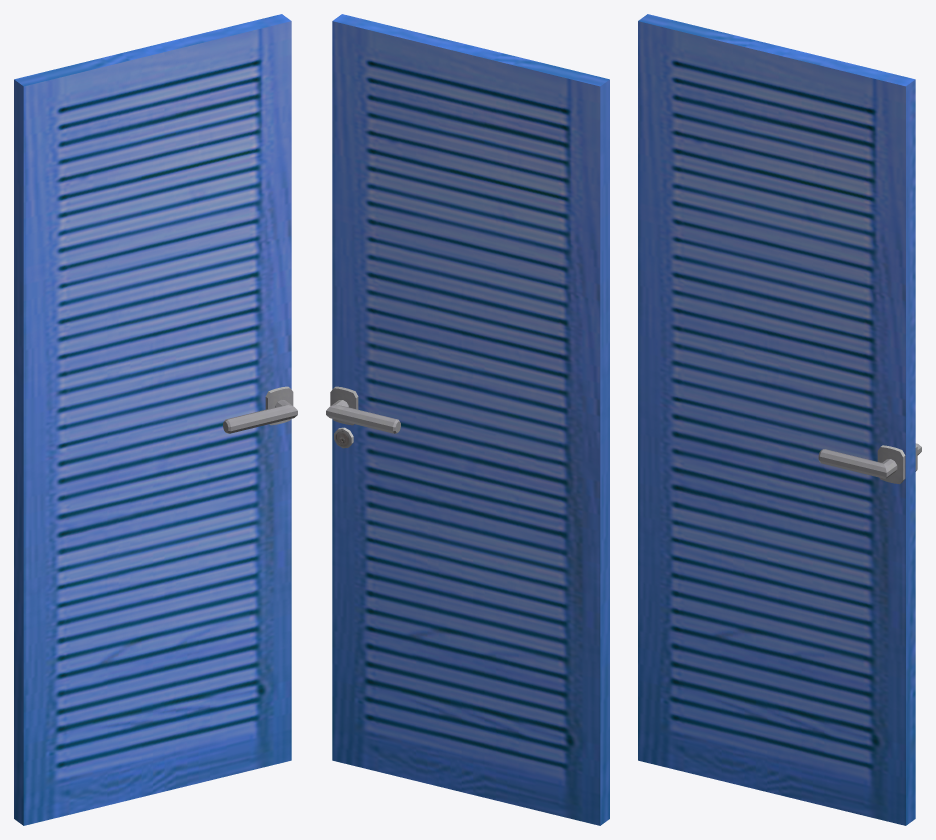
Rendered from Door_wc.fbx.
3 renders of one model, left to right at view 1: azimuth 30°, elevation 25°; view 2: azimuth 150°, elevation 25°; view 3: azimuth 330°, elevation 25°, orthographic.
Parts seen in each view (by area): view 1: porte_basique, Cylinder; view 2: porte_basique, Cylinder; view 3: porte_basique, Cylinder.
Boxes of the visible parts, bbox=[...] form: porte_basique: bbox=[14, 14, 293, 825]; Cylinder: bbox=[223, 400, 297, 433]; porte_basique: bbox=[330, 14, 609, 825]; Cylinder: bbox=[326, 400, 400, 433]; porte_basique: bbox=[638, 14, 917, 825]; Cylinder: bbox=[818, 443, 921, 478].
Bounding box in the file's own units: 63.76 × 168 × 14.55.
